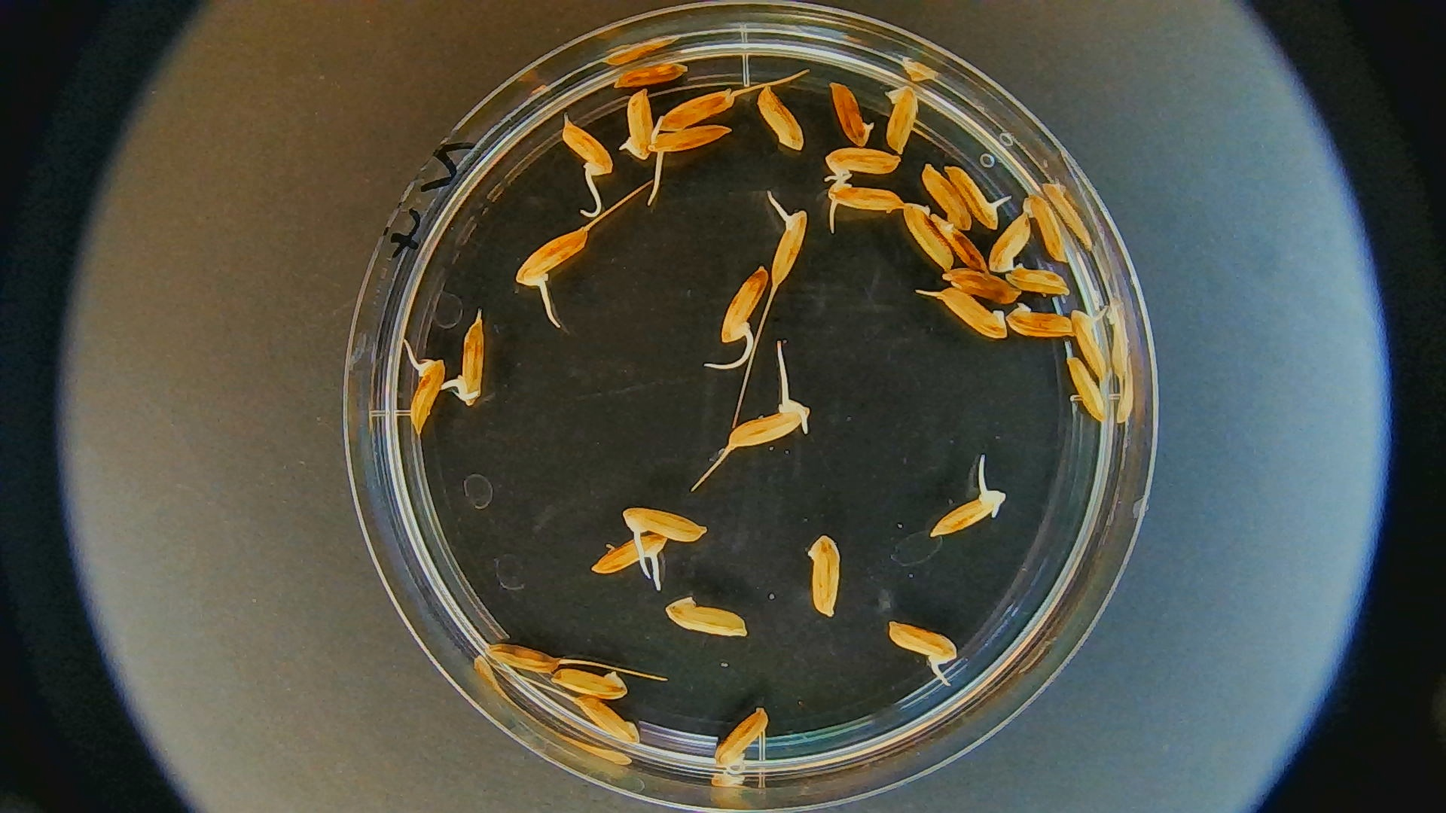no: (665, 593, 749, 638), (1022, 190, 1071, 263), (937, 291, 1008, 338), (904, 200, 952, 269), (660, 88, 731, 133), (922, 166, 974, 226), (832, 82, 879, 148), (806, 532, 842, 618), (572, 698, 640, 741), (935, 214, 989, 268), (759, 87, 804, 151), (986, 214, 1035, 271), (882, 81, 921, 151), (1068, 355, 1107, 424), (1007, 305, 1076, 343), (552, 664, 627, 698), (939, 269, 1017, 301), (1005, 260, 1072, 295), (490, 644, 560, 673), (618, 61, 686, 89)
yes: (931, 480, 1003, 542), (727, 394, 808, 449), (517, 230, 590, 290), (719, 265, 771, 344), (556, 113, 617, 180), (714, 705, 772, 775), (953, 163, 1012, 227), (592, 534, 669, 579), (768, 204, 806, 295), (888, 620, 962, 665), (819, 141, 898, 183), (452, 317, 487, 403), (621, 505, 703, 540), (407, 359, 445, 434), (651, 121, 730, 157), (825, 180, 901, 217), (616, 87, 654, 160), (1069, 306, 1103, 381)
